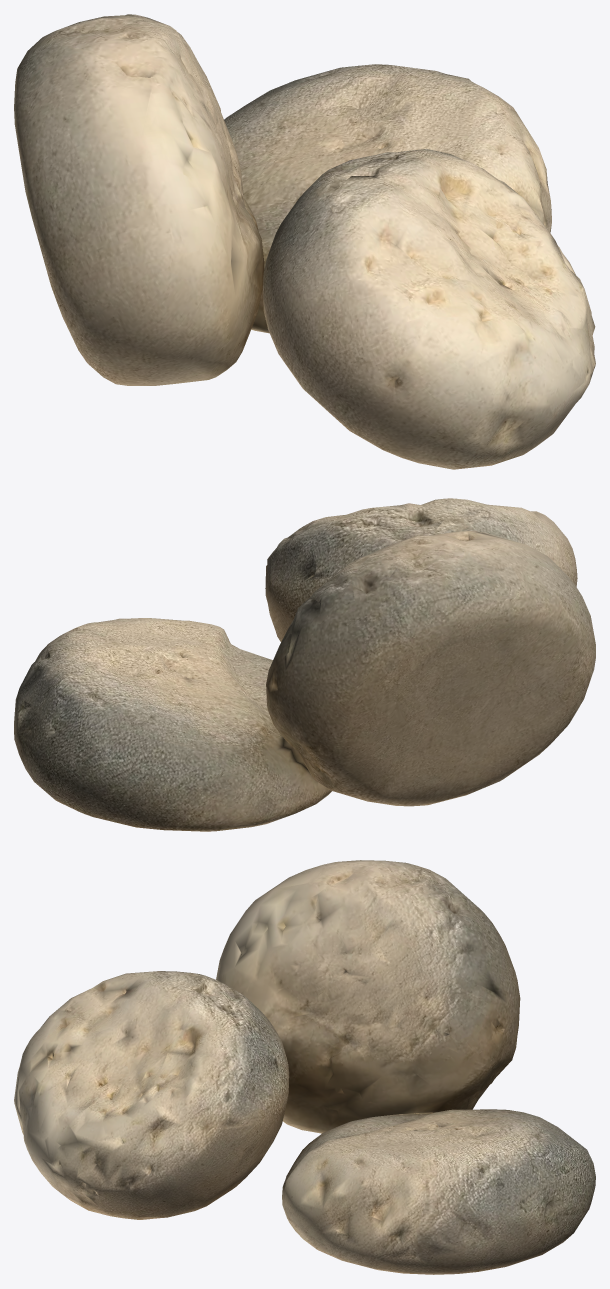
File: boulder-2.glb
The picture shows the model from 3 angles, top to bottom: view 1: azimuth 30°, elevation 25°; view 2: azimuth 150°, elevation 25°; view 3: azimuth 270°, elevation 25°; orthographic projection. The views are drawn at different scales.
Visible parts, largest first — view 1: tripo_node_ed988ac7-b8fc-4a78-94e5-d3b72c37081b; view 2: tripo_node_ed988ac7-b8fc-4a78-94e5-d3b72c37081b; view 3: tripo_node_ed988ac7-b8fc-4a78-94e5-d3b72c37081b.
Part boxes in pixels (x1,y1,x2,y2): tripo_node_ed988ac7-b8fc-4a78-94e5-d3b72c37081b: [14, 14, 595, 469]; tripo_node_ed988ac7-b8fc-4a78-94e5-d3b72c37081b: [14, 498, 595, 831]; tripo_node_ed988ac7-b8fc-4a78-94e5-d3b72c37081b: [14, 860, 595, 1274].
Size of the model in its own units: 0.8906 by 0.4704 by 0.9998.
1 material, 1 textured.
